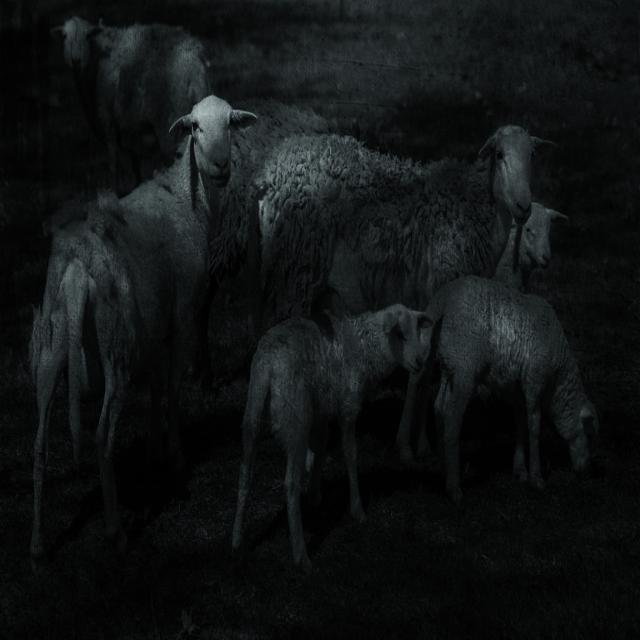Goat: (27, 92, 257, 562), (253, 121, 558, 471)
